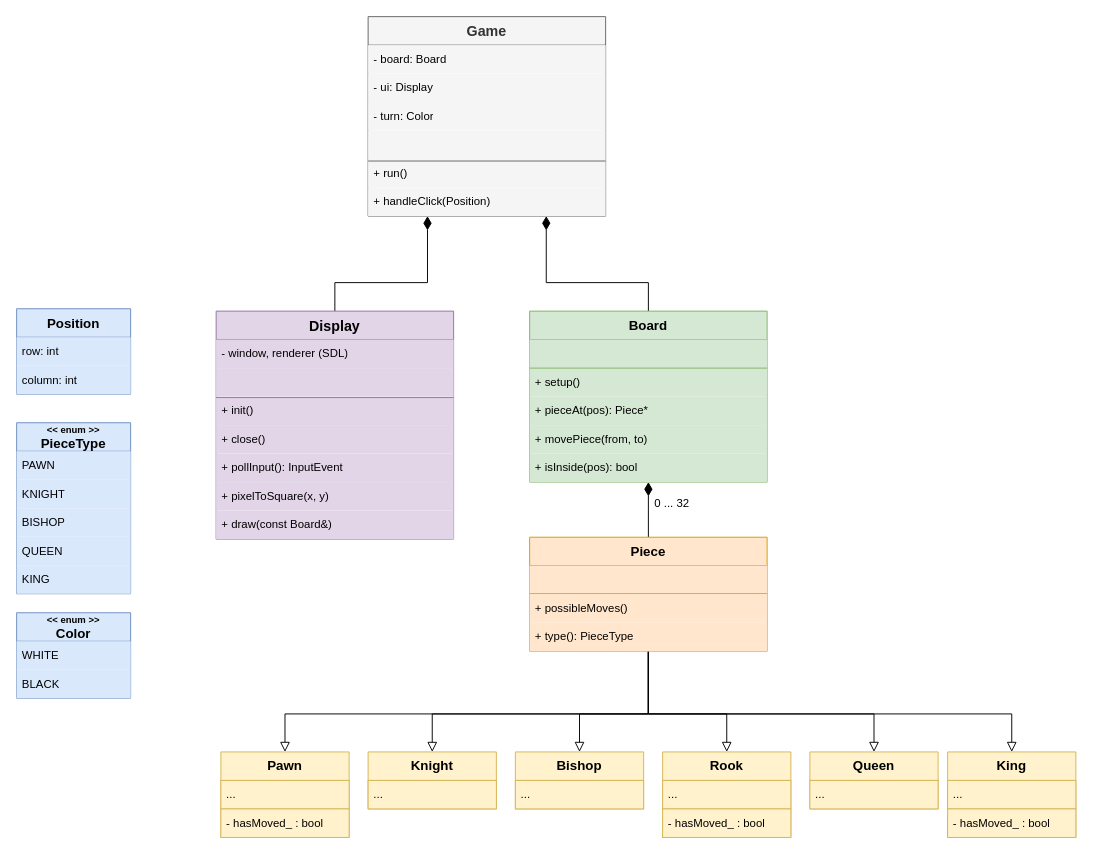
The diagram is 1093 pixels wide and 854 high, and some of its shapes have lost their labels. The centre of each missing label's shape, as x and y in pixels:
- color: Color: point 648,579
- grid[8][8]: point 648,353
- selected: optional<Position>: point 486,144
- squareSize: int: point 334,382
